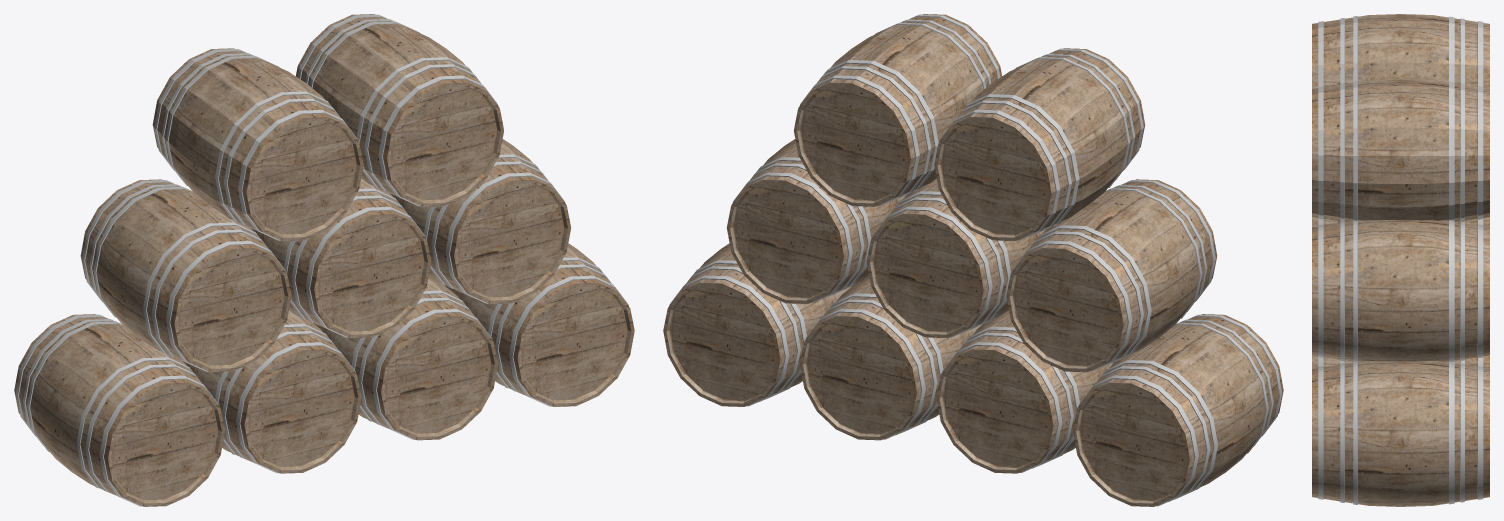
The model's file is woddenBarrelStack02.FBX.
The picture shows the model from 3 angles, left to right: view 1: azimuth 30°, elevation 25°; view 2: azimuth 150°, elevation 25°; view 3: azimuth 270°, elevation 25°; orthographic projection. The views are drawn at different scales.
Parts seen in each view (by area): view 1: woodenBarrelStack02; view 2: woodenBarrelStack02; view 3: woodenBarrelStack02.
Boxes of the visible parts, bbox=[...] form: woodenBarrelStack02: bbox=[14, 14, 634, 506]; woodenBarrelStack02: bbox=[663, 14, 1283, 506]; woodenBarrelStack02: bbox=[1312, 14, 1489, 506].
Bounding box in the file's own units: 3.02 × 1.98 × 0.9.
